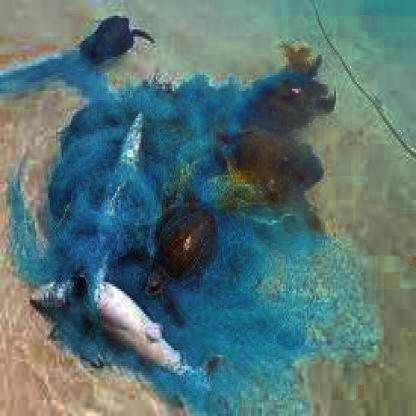net: (56, 77, 324, 366)
